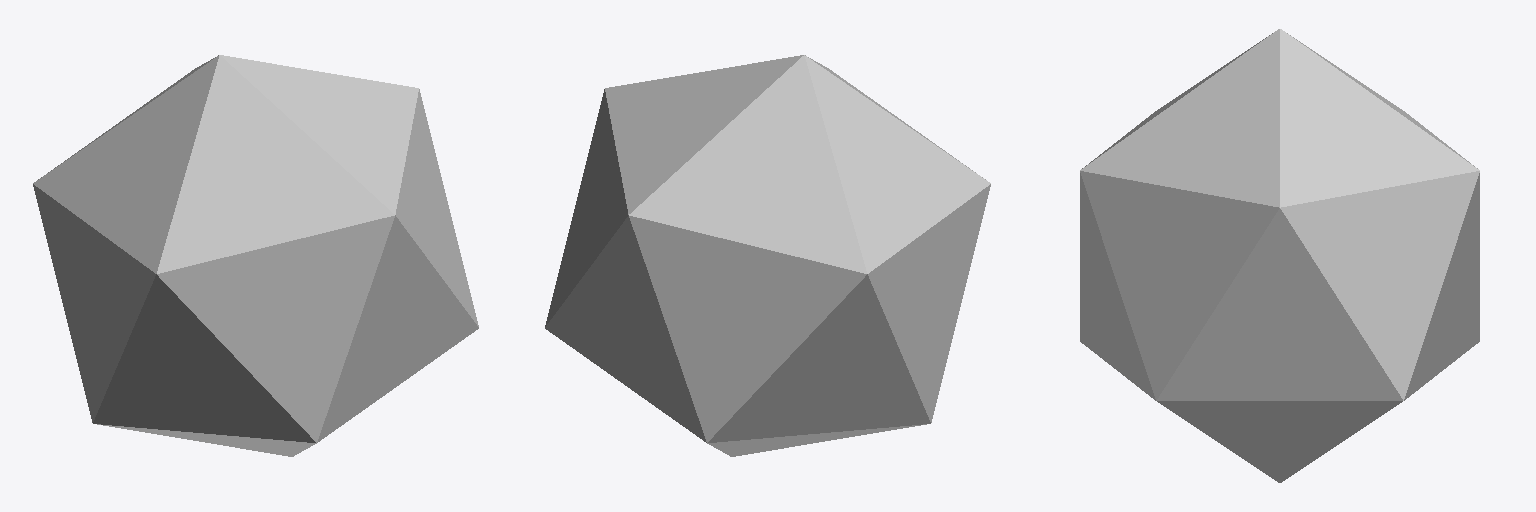
The model's file is lamp1.obj.
3 renders of one model, left to right at view 1: azimuth 30°, elevation 25°; view 2: azimuth 150°, elevation 25°; view 3: azimuth 270°, elevation 25°, orthographic.
Size of the model in its own units: 0.1633 by 0.2008 by 0.1736.